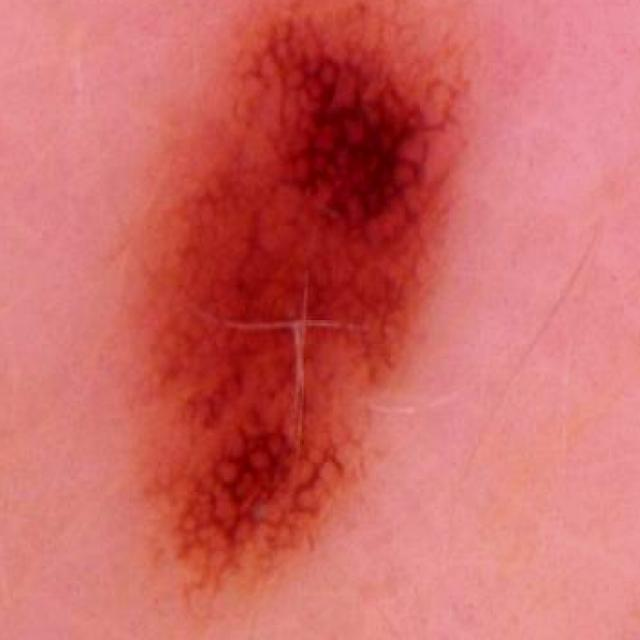NV: (116, 0, 473, 640)
